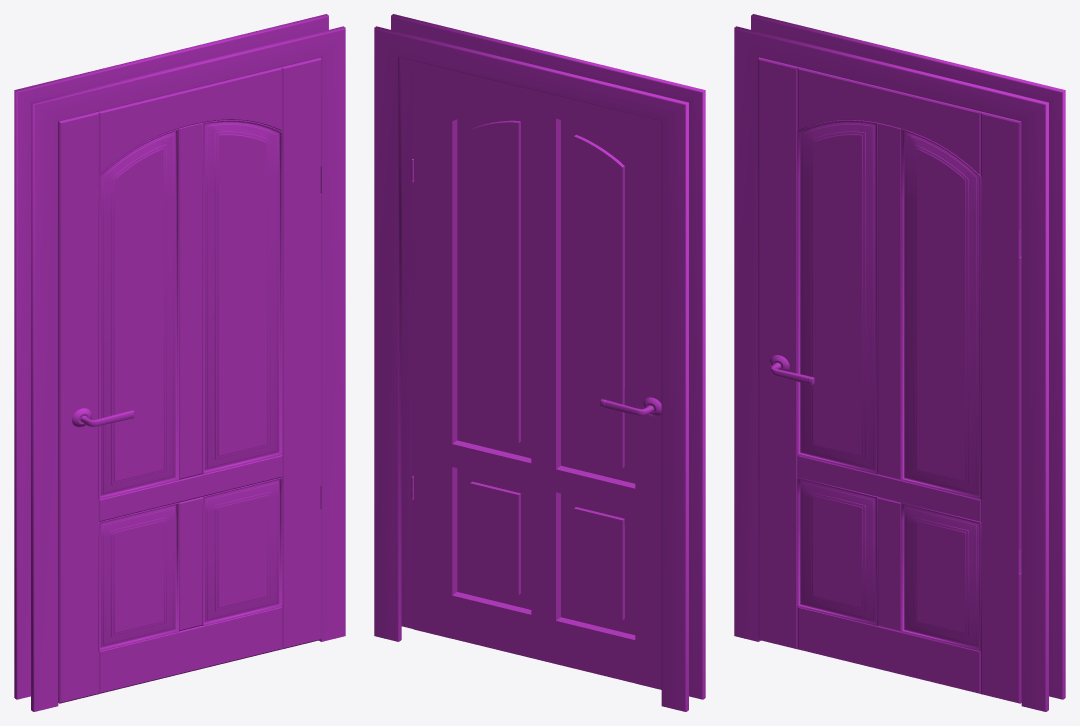
File: Doors_Game_SP.FBX
The picture shows the model from 3 angles, left to right: view 1: azimuth 30°, elevation 25°; view 2: azimuth 150°, elevation 25°; view 3: azimuth 330°, elevation 25°; orthographic projection.
Visible parts, largest first — view 1: Door001_Unwrapped, Plinth001_Unwrapped, DoorHandle001_low_Unwrapped; view 2: Door001_Unwrapped, Plinth001_Unwrapped, DoorHandle_Unwrapped; view 3: Door001_Unwrapped, Plinth001_Unwrapped, DoorHandle001_low_Unwrapped.
Part boxes in pixels (left/top/right/bottom): Door001_Unwrapped: left=58, top=57, right=321, bottom=703; Plinth001_Unwrapped: left=14, top=14, right=345, bottom=711; DoorHandle001_low_Unwrapped: left=72, top=408, right=134, bottom=427; Door001_Unwrapped: left=413, top=61, right=661, bottom=689; Plinth001_Unwrapped: left=374, top=14, right=705, bottom=711; DoorHandle_Unwrapped: left=600, top=397, right=661, bottom=416; Door001_Unwrapped: left=758, top=57, right=1021, bottom=703; Plinth001_Unwrapped: left=734, top=14, right=1065, bottom=711; DoorHandle001_low_Unwrapped: left=770, top=355, right=814, bottom=385.
Bounding box in the file's own units: 128 × 238 × 22.21.
